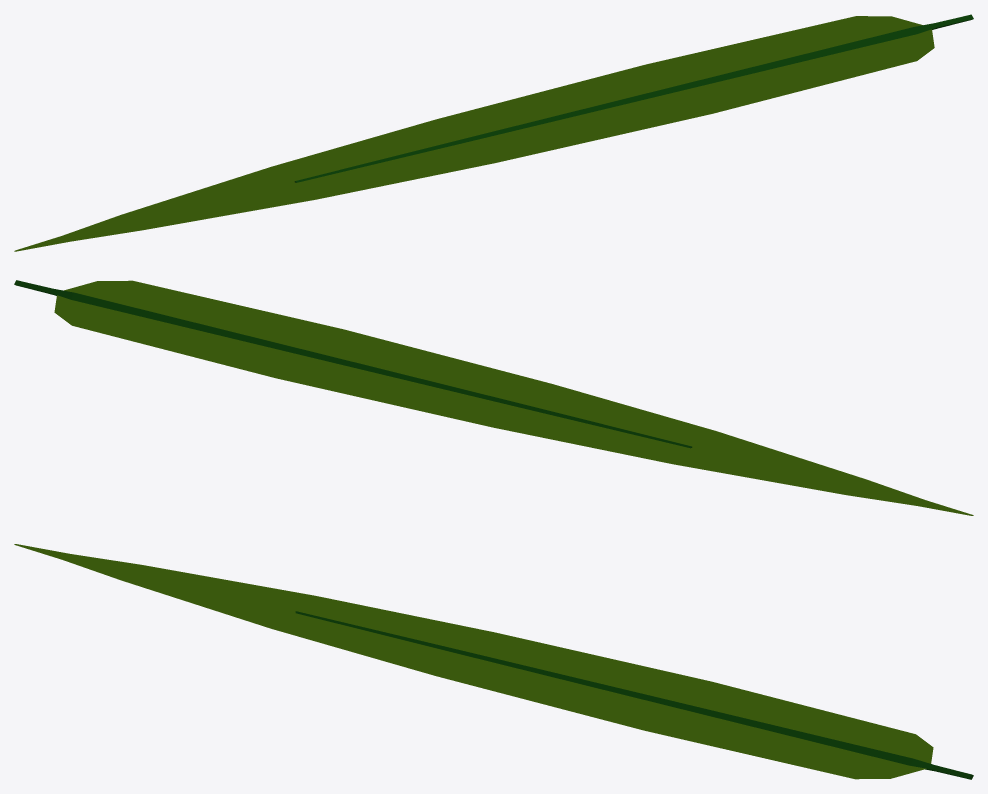
Rendered from BambooLeafBv1.fbx.
3 renders of one model, top to bottom at view 1: azimuth 30°, elevation 25°; view 2: azimuth 150°, elevation 25°; view 3: azimuth 330°, elevation 25°, orthographic.
Parts seen in each view (by area): view 1: Cube.027; view 2: Cube.027; view 3: Cube.027.
Boxes of the visible parts, x1,y1,x2,y2 form: Cube.027: (14,14,973,251); Cube.027: (14,280,973,515); Cube.027: (14,544,973,779).
Size of the model in its own units: 23.02 by 0.2004 by 2.8.
